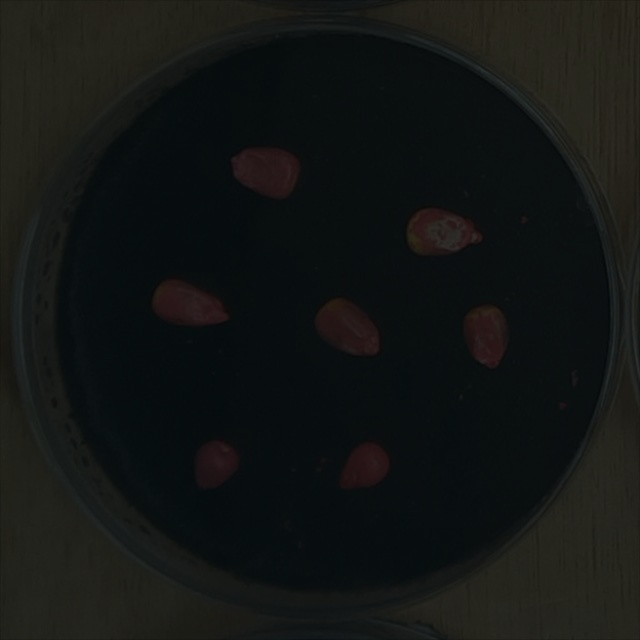Zea mays: (307, 291, 389, 365), (142, 271, 236, 333), (398, 203, 490, 265), (222, 141, 306, 208), (453, 297, 514, 378), (330, 434, 396, 497), (187, 431, 247, 499)
